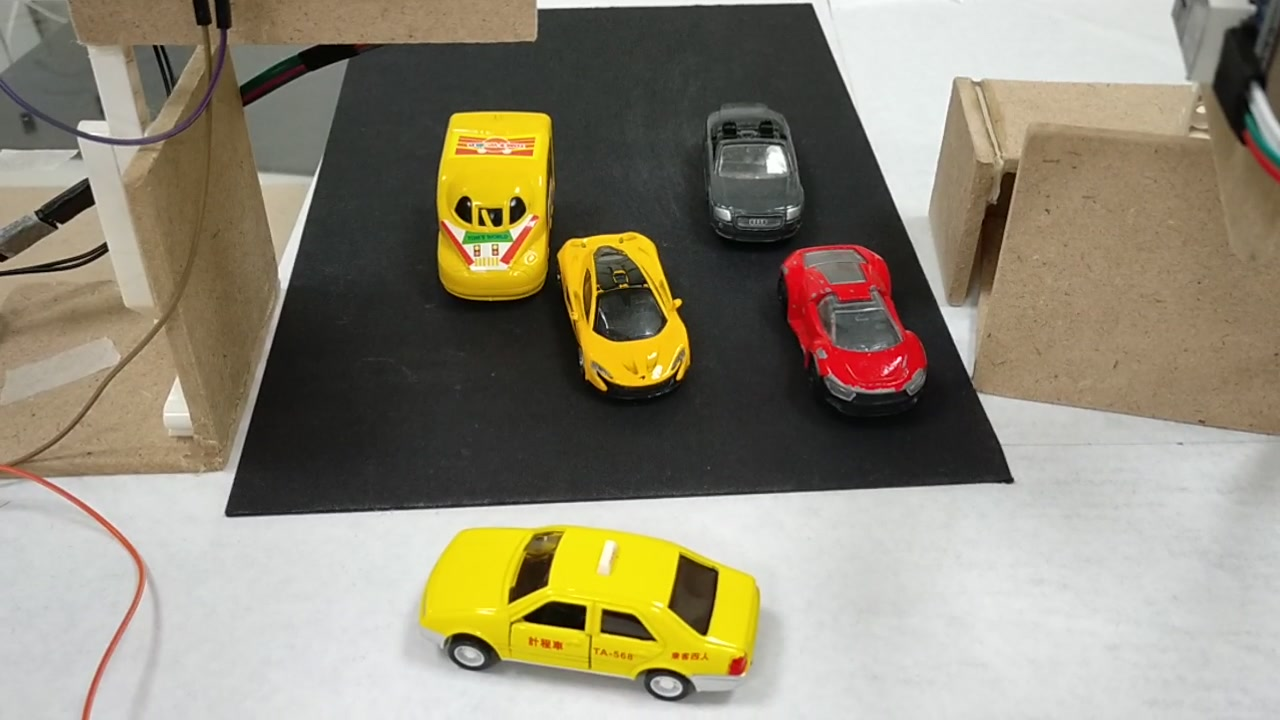car: (419, 525, 754, 714), (552, 229, 693, 400), (784, 244, 930, 406), (703, 109, 807, 240)
